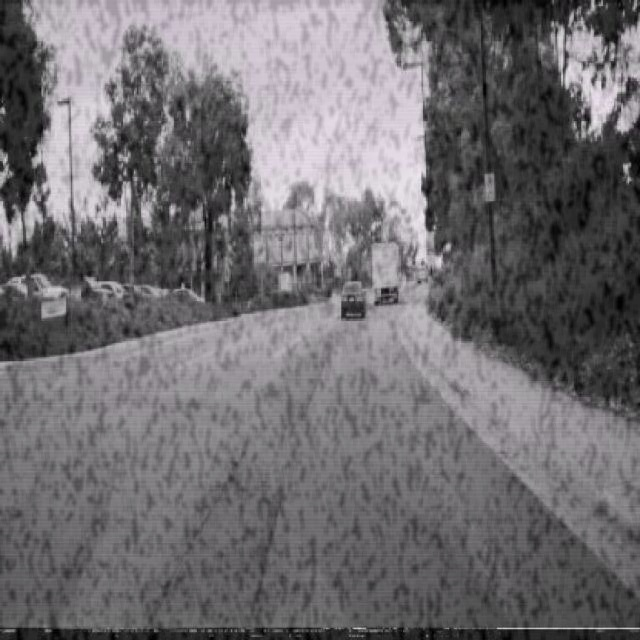schoolSpeedLimit25: (424, 229, 434, 264)
